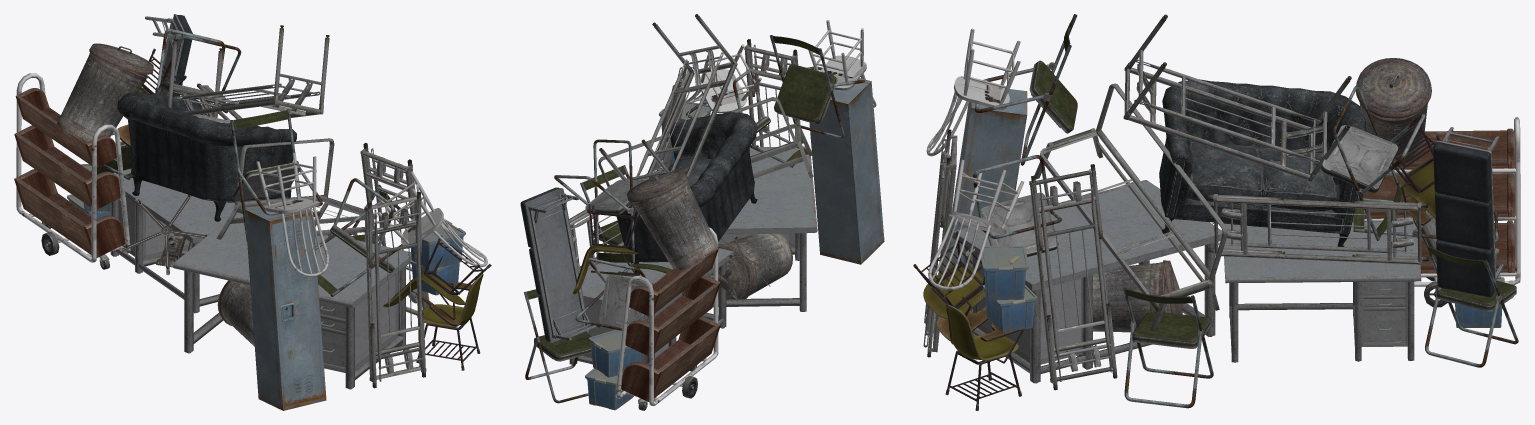
Rendered from sm39_198_west3fbarricade01a.fbx.
3 renders of one model, left to right at view 1: azimuth 30°, elevation 25°; view 2: azimuth 150°, elevation 25°; view 3: azimuth 270°, elevation 25°, orthographic. The views are drawn at different scales.
Parts seen in each view (by area): view 1: LOD_1_Group_0_Sub_7__sm30_171_LibraryTrolley01A_A_Mat, LOD_1_Group_0_Sub_5__sm30_036_OfficeSofa02A_A_Mat, LOD_1_Group_0_Sub_8__sm30_093_STARSPClDesk01A_A_Mat, LOD_1_Group_0_Sub_3__sm30_004_FoldingTable02A_A_Mat, LOD_1_Group_0_Sub_9__TrashBoxA01A__MAT, LOD_1_Group_1_Sub_2__sm30_051_Locker01A_A_Mat, LOD_1_Group_0_Sub_2__sm30_051_Locker01A_A_Mat, LOD_1_Group_0_Sub_11__sm30_277_LaboChair01A_A_Mat, LOD_1_Group_0_Sub_6__sm30_003_FoldingTable01A_A_Mat, LOD_1_Group_3_Sub_3__sm30_093_STARSPClDesk01A_A_Mat, LOD_1_Group_1_Sub_5__sm30_093_STARSPClDesk01A_A_Mat, LOD_1_Group_4_Sub_1__sm30_056_FoldingChair01A_A_Mat (+15 smaller); view 2: LOD_1_Group_0_Sub_7__sm30_171_LibraryTrolley01A_A_Mat, LOD_1_Group_0_Sub_2__sm30_051_Locker01A_A_Mat, LOD_1_Group_0_Sub_9__TrashBoxA01A__MAT, LOD_1_Group_0_Sub_5__sm30_036_OfficeSofa02A_A_Mat, LOD_1_Group_0_Sub_8__sm30_093_STARSPClDesk01A_A_Mat, LOD_1_Group_0_Sub_10__sm30_126_BenchA01A_A_Mat, LOD_1_Group_4_Sub_1__sm30_056_FoldingChair01A_A_Mat, LOD_1_Group_0_Sub_6__sm30_003_FoldingTable01A_A_Mat, LOD_1_Group_0_Sub_11__sm30_277_LaboChair01A_A_Mat, LOD_1_Group_0_Sub_3__sm30_004_FoldingTable02A_A_Mat, LOD_1_Group_0_Sub_12__sm30_074_PlasticBox01A_A_Mat1, LOD_1_Group_3_Sub_1__sm30_056_FoldingChair01A_A_Mat (+11 smaller); view 3: LOD_1_Group_0_Sub_5__sm30_036_OfficeSofa02A_A_Mat, LOD_1_Group_0_Sub_8__sm30_093_STARSPClDesk01A_A_Mat, LOD_1_Group_0_Sub_3__sm30_004_FoldingTable02A_A_Mat, LOD_1_Group_4_Sub_1__sm30_056_FoldingChair01A_A_Mat, LOD_1_Group_0_Sub_10__sm30_126_BenchA01A_A_Mat, LOD_1_Group_0_Sub_9__TrashBoxA01A__MAT, LOD_1_Group_0_Sub_6__sm30_003_FoldingTable01A_A_Mat, LOD_1_Group_0_Sub_7__sm30_171_LibraryTrolley01A_A_Mat, LOD_1_Group_0_Sub_11__sm30_277_LaboChair01A_A_Mat, LOD_1_Group_0_Sub_2__sm30_051_Locker01A_A_Mat, LOD_1_Group_0_Sub_12__sm30_074_PlasticBox01A_A_Mat1, LOD_1_Group_0_Sub_4__sm30_001_ChairDesk01A_A_Mat (+16 smaller).
Boxes of the visible parts, x1,y1,x2,y2 form: LOD_1_Group_0_Sub_7__sm30_171_LibraryTrolley01A_A_Mat: (14, 73, 130, 269); LOD_1_Group_0_Sub_5__sm30_036_OfficeSofa02A_A_Mat: (117, 92, 296, 221); LOD_1_Group_0_Sub_8__sm30_093_STARSPClDesk01A_A_Mat: (113, 168, 411, 307); LOD_1_Group_0_Sub_3__sm30_004_FoldingTable02A_A_Mat: (197, 83, 429, 388); LOD_1_Group_0_Sub_9__TrashBoxA01A__MAT: (57, 43, 254, 346); LOD_1_Group_1_Sub_2__sm30_051_Locker01A_A_Mat: (272, 215, 323, 404); LOD_1_Group_0_Sub_2__sm30_051_Locker01A_A_Mat: (245, 199, 326, 410); LOD_1_Group_0_Sub_11__sm30_277_LaboChair01A_A_Mat: (256, 152, 487, 276); LOD_1_Group_0_Sub_6__sm30_003_FoldingTable01A_A_Mat: (167, 25, 329, 123); LOD_1_Group_3_Sub_3__sm30_093_STARSPClDesk01A_A_Mat: (118, 197, 398, 372); LOD_1_Group_1_Sub_5__sm30_093_STARSPClDesk01A_A_Mat: (110, 199, 405, 389); LOD_1_Group_4_Sub_1__sm30_056_FoldingChair01A_A_Mat: (91, 81, 394, 272); LOD_1_Group_0_Sub_7__sm30_171_LibraryTrolley01A_A_Mat: (615, 227, 720, 410); LOD_1_Group_0_Sub_2__sm30_051_Locker01A_A_Mat: (809, 79, 884, 264); LOD_1_Group_0_Sub_9__TrashBoxA01A__MAT: (627, 171, 792, 299); LOD_1_Group_0_Sub_5__sm30_036_OfficeSofa02A_A_Mat: (616, 112, 757, 274); LOD_1_Group_0_Sub_8__sm30_093_STARSPClDesk01A_A_Mat: (581, 146, 817, 316); LOD_1_Group_0_Sub_10__sm30_126_BenchA01A_A_Mat: (520, 187, 602, 342); LOD_1_Group_4_Sub_1__sm30_056_FoldingChair01A_A_Mat: (534, 64, 837, 361); LOD_1_Group_0_Sub_6__sm30_003_FoldingTable01A_A_Mat: (599, 14, 737, 180); LOD_1_Group_0_Sub_11__sm30_277_LaboChair01A_A_Mat: (686, 20, 876, 113); LOD_1_Group_0_Sub_3__sm30_004_FoldingTable02A_A_Mat: (569, 39, 800, 273); LOD_1_Group_0_Sub_12__sm30_074_PlasticBox01A_A_Mat1: (585, 99, 711, 410); LOD_1_Group_3_Sub_1__sm30_056_FoldingChair01A_A_Mat: (524, 35, 844, 403); LOD_1_Group_0_Sub_5__sm30_036_OfficeSofa02A_A_Mat: (1159, 79, 1366, 246); LOD_1_Group_0_Sub_8__sm30_093_STARSPClDesk01A_A_Mat: (951, 180, 1421, 290); LOD_1_Group_0_Sub_3__sm30_004_FoldingTable02A_A_Mat: (923, 129, 1429, 390); LOD_1_Group_4_Sub_1__sm30_056_FoldingChair01A_A_Mat: (981, 60, 1516, 348); LOD_1_Group_0_Sub_10__sm30_126_BenchA01A_A_Mat: (1433, 127, 1503, 297); LOD_1_Group_0_Sub_9__TrashBoxA01A__MAT: (1093, 58, 1431, 332); LOD_1_Group_0_Sub_6__sm30_003_FoldingTable01A_A_Mat: (1123, 14, 1351, 181); LOD_1_Group_0_Sub_7__sm30_171_LibraryTrolley01A_A_Mat: (1352, 117, 1520, 307); LOD_1_Group_0_Sub_11__sm30_277_LaboChair01A_A_Mat: (926, 28, 1024, 290); LOD_1_Group_0_Sub_2__sm30_051_Locker01A_A_Mat: (948, 89, 1027, 265); LOD_1_Group_0_Sub_12__sm30_074_PlasticBox01A_A_Mat1: (965, 246, 1504, 332); LOD_1_Group_0_Sub_4__sm30_001_ChairDesk01A_A_Mat: (923, 158, 1435, 361).
Bounding box in the file's own units: 2.75 × 3.28 × 5.39.
